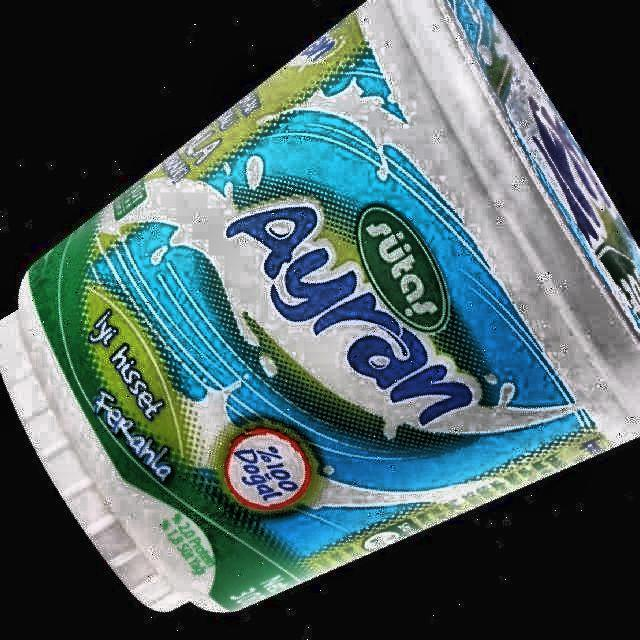plastic: (0, 0, 640, 611)
